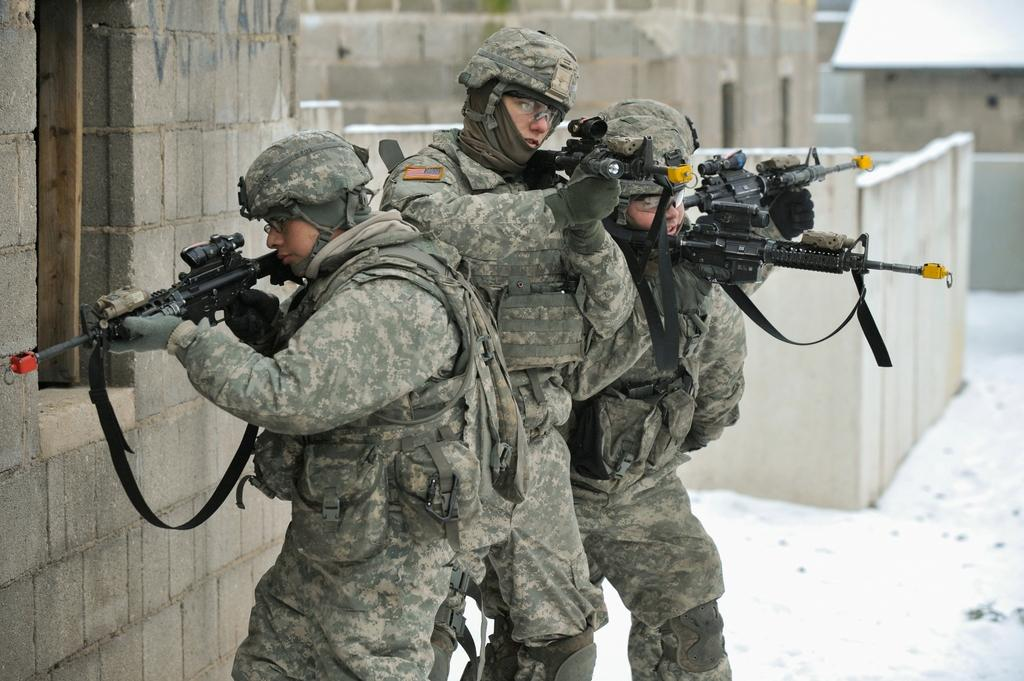Rifle: (65, 226, 304, 382), (599, 192, 960, 289), (679, 137, 879, 211), (518, 112, 698, 192)
